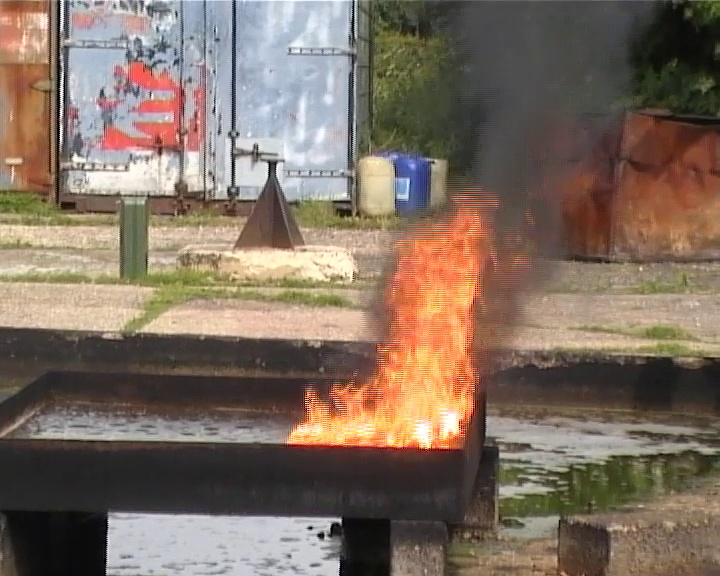fire: (288, 218, 479, 447)
